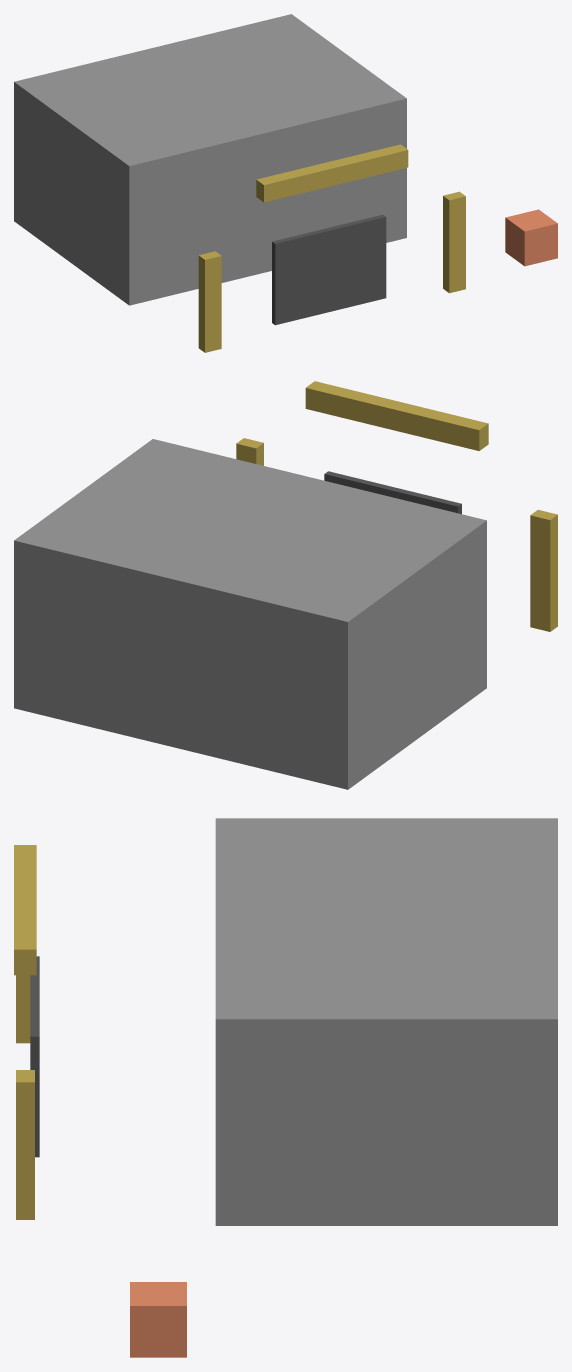
The model's file is mine.glb.
3 views of the same model, one above another, from view 1: azimuth 30°, elevation 25°; view 2: azimuth 150°, elevation 25°; view 3: azimuth 270°, elevation 25° (orthographic). The views are drawn at different scales.
Visible parts, largest first — view 1: Mine; view 2: Mine; view 3: Mine.
Boxes of the visible parts, x1,y1,x2,y2 form: Mine: [14, 14, 557, 352]; Mine: [14, 381, 557, 789]; Mine: [14, 818, 557, 1357].
Bounding box in the file's own units: 0.36 × 0.1575 × 0.286.
